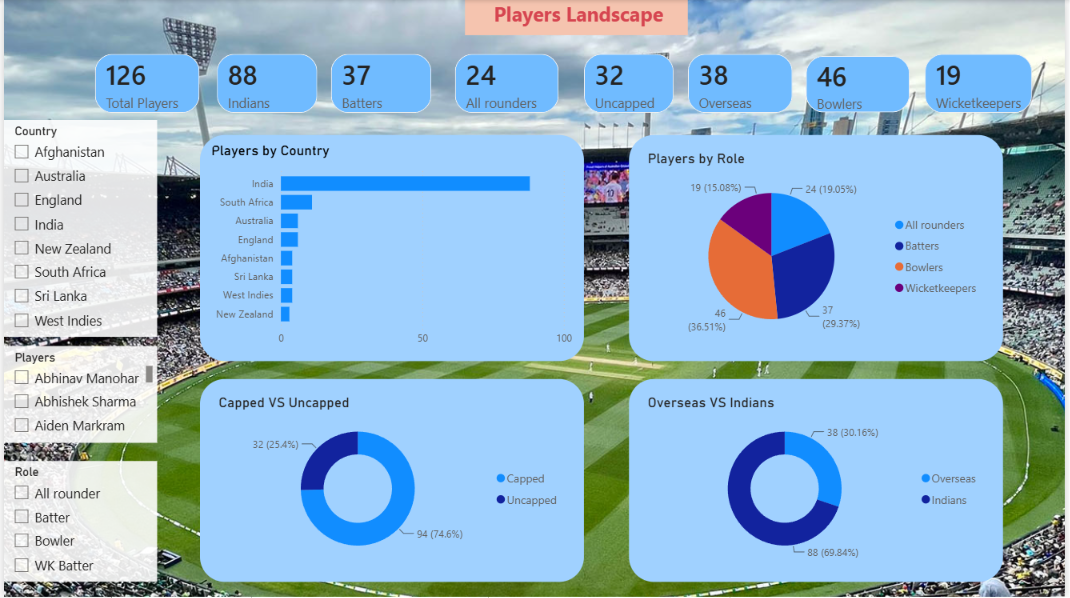

The page's visual inventory and layout, read from the dashboard file:
{"tool":"powerbi","page":{"name":"Players Landscape","canvas":[1280,720],"ordinal":0},"visuals":[{"type":"clusteredBarChart","title":"Players by Country","fields":{"Category":["IPL26.Country"],"Y":["CountNonNull(IPL26.Player_Name)"]},"box":[236.5,162.9,463.3,272.7],"z":1000},{"type":"cardVisual","fields":{"Data":["Players Measures.Total Players"]},"box":[109.8,65.1,126.7,71.2],"z":2000},{"type":"cardVisual","fields":{"Data":["Players Measures.Indians"]},"box":[257,65.1,121.9,71.2],"z":3000},{"type":"cardVisual","fields":{"Data":["Players Measures.Overseas"]},"box":[825.2,65.1,126.7,71.2],"z":4000},{"type":"cardVisual","fields":{"Data":["Players Measures.Batters"]},"box":[394.5,65.1,121.9,71.2],"z":5000},{"type":"cardVisual","fields":{"Data":["Players Measures.Bowlers"]},"box":[967.6,67.6,125.5,68.8],"z":6000},{"type":"cardVisual","fields":{"Data":["Players Measures.All rounders"]},"box":[544.1,65.1,125.5,71.2],"z":7000},{"type":"cardVisual","fields":{"Data":["Players Measures.Wicketkeepers"]},"box":[1111.1,65.1,129.1,71.2],"z":8000},{"type":"donutChart","title":"Overseas VS Indians","fields":{"Y":["Players Measures.Overseas","Players Measures.Indians"]},"box":[754,457.2,451.2,244.9],"z":9000},{"type":"cardVisual","fields":{"Data":["Players Measures.Uncapped"]},"box":[699.7,65.1,108.6,71.2],"z":10000},{"type":"slicer","fields":{"Values":["IPL26.Player_Name"]},"box":[0,417.4,184.6,117],"z":11000},{"type":"donutChart","title":"Capped VS Uncapped","fields":{"Y":["Players Measures.Capped","Players Measures.Uncapped"]},"box":[236.5,457.2,463.3,244.9],"z":12000},{"type":"pieChart","title":"Players by Role","fields":{"Y":["Players Measures.All rounders","Players Measures.Batters","Players Measures.Bowlers","Players Measures.Wicketkeepers"]},"box":[754,162.9,451.2,272.7],"z":13000},{"type":"slicer","fields":{"Values":["IPL26.Country"]},"box":[0,144.8,184.6,261.8],"z":15000},{"type":"slicer","fields":{"Values":["IPL26.Role"]},"box":[0,556.2,184.6,146],"z":16000},{"type":"textbox","box":[556.2,0,269,42.2],"z":18000}]}

Visuals, with their boxes in screenshot pixels (x1, y1, x2, y2), scaled from the page's 1280x720 canvas onto the 1070x598 screenshot:
"Players by Country" clusteredBarChart: box=[198, 135, 585, 362]
cardVisual - Players Measures.Total Players: box=[92, 54, 198, 113]
cardVisual - Players Measures.Indians: box=[215, 54, 317, 113]
cardVisual - Players Measures.Overseas: box=[690, 54, 796, 113]
cardVisual - Players Measures.Batters: box=[330, 54, 432, 113]
cardVisual - Players Measures.Bowlers: box=[809, 56, 914, 113]
cardVisual - Players Measures.All rounders: box=[455, 54, 560, 113]
cardVisual - Players Measures.Wicketkeepers: box=[929, 54, 1037, 113]
"Overseas VS Indians" donutChart: box=[630, 380, 1007, 583]
cardVisual - Players Measures.Uncapped: box=[585, 54, 676, 113]
slicer - IPL26.Player_Name: box=[0, 347, 154, 444]
"Capped VS Uncapped" donutChart: box=[198, 380, 585, 583]
"Players by Role" pieChart: box=[630, 135, 1007, 362]
slicer - IPL26.Country: box=[0, 120, 154, 338]
slicer - IPL26.Role: box=[0, 462, 154, 583]
textbox: box=[465, 0, 690, 35]
